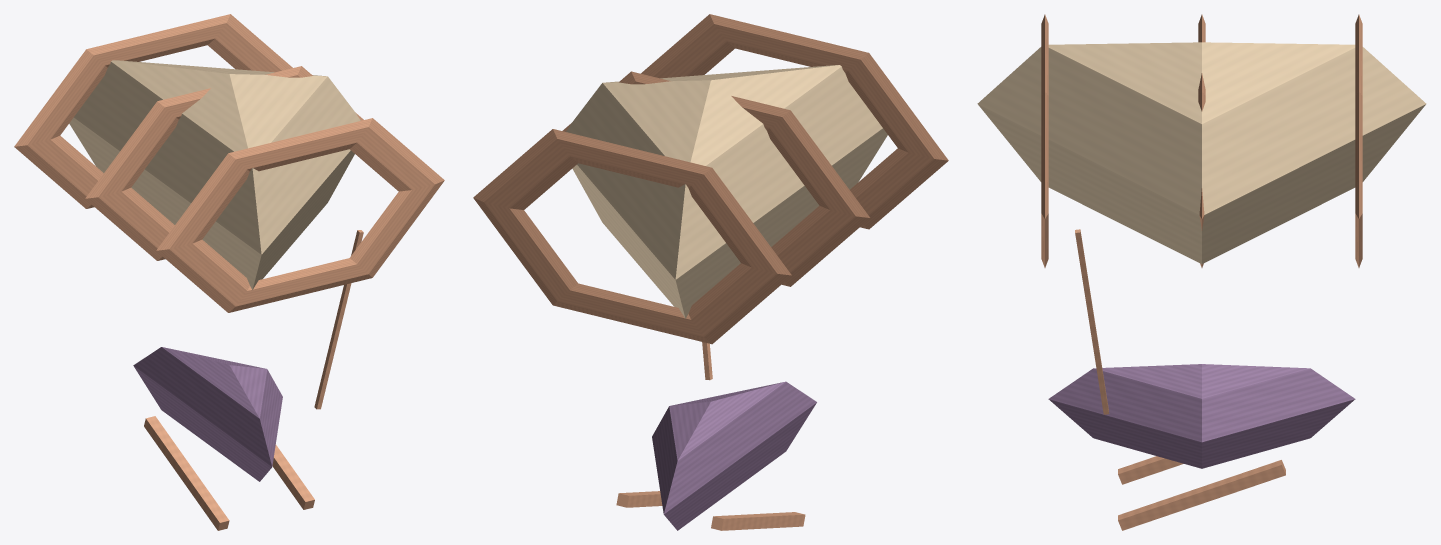
Rendered from atlas100-s081-a02.lod2.glb.
3 renders of one model, left to right at view 1: azimuth 30°, elevation 25°; view 2: azimuth 150°, elevation 25°; view 3: azimuth 270°, elevation 25°, orthographic. The views are drawn at different scales.
Visible parts, largest first — view 1: atlas100-s081-a02:part-003, atlas100-s081-a02:part-010, atlas100-s081-a02:part-008, atlas100-s081-a02:part-000, atlas100-s081-a02:part-009, atlas100-s081-a02:part-001, atlas100-s081-a02:part-007, atlas100-s081-a02:part-002; view 2: atlas100-s081-a02:part-003, atlas100-s081-a02:part-008, atlas100-s081-a02:part-010, atlas100-s081-a02:part-000, atlas100-s081-a02:part-009, atlas100-s081-a02:part-001, atlas100-s081-a02:part-002; view 3: atlas100-s081-a02:part-003, atlas100-s081-a02:part-000, atlas100-s081-a02:part-002, atlas100-s081-a02:part-008, atlas100-s081-a02:part-010, atlas100-s081-a02:part-007, atlas100-s081-a02:part-001, atlas100-s081-a02:part-009.
Part boxes in pixels (<box>): atlas100-s081-a02:part-003: <box>69,60,360,289</box>; atlas100-s081-a02:part-010: <box>156,118,444,312</box>; atlas100-s081-a02:part-008: <box>14,14,292,208</box>; atlas100-s081-a02:part-000: <box>133,347,282,481</box>; atlas100-s081-a02:part-009: <box>85,66,363,260</box>; atlas100-s081-a02:part-001: <box>144,416,229,530</box>; atlas100-s081-a02:part-007: <box>314,230,363,409</box>; atlas100-s081-a02:part-002: <box>272,444,314,509</box>; atlas100-s081-a02:part-003: <box>566,65,887,318</box>; atlas100-s081-a02:part-008: <box>473,129,791,344</box>; atlas100-s081-a02:part-010: <box>641,14,948,229</box>; atlas100-s081-a02:part-000: <box>652,381,816,530</box>; atlas100-s081-a02:part-009: <box>562,71,869,286</box>; atlas100-s081-a02:part-001: <box>711,512,805,530</box>; atlas100-s081-a02:part-002: <box>616,491,662,507</box>; atlas100-s081-a02:part-003: <box>977,42,1426,263</box>; atlas100-s081-a02:part-000: <box>1048,364,1355,468</box>; atlas100-s081-a02:part-002: <box>1118,460,1285,530</box>; atlas100-s081-a02:part-008: <box>1355,14,1362,267</box>; atlas100-s081-a02:part-010: <box>1041,14,1048,267</box>; atlas100-s081-a02:part-007: <box>1075,229,1109,414</box>; atlas100-s081-a02:part-001: <box>1118,456,1183,484</box>; atlas100-s081-a02:part-009: <box>1198,14,1205,267</box>.
Bounding box in the file's own units: 2.7 × 3.74 × 3.29.
Materials: 3 (3 with a texture image).
